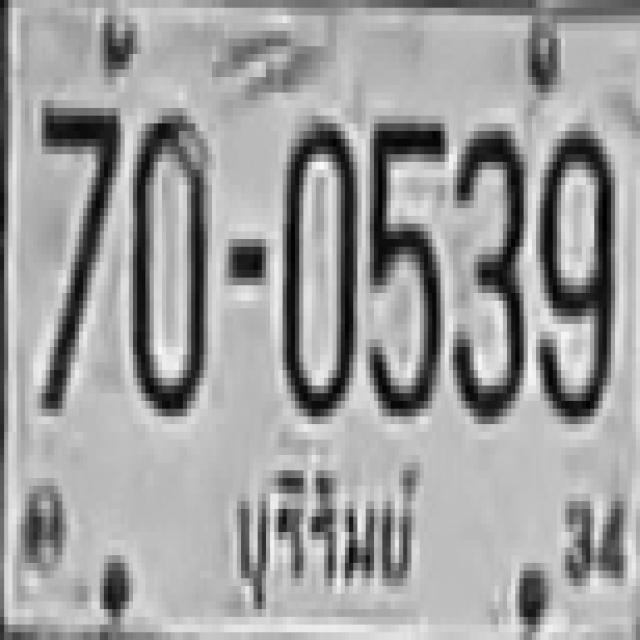0: (128, 100, 204, 409), (278, 115, 354, 408)
3: (449, 124, 519, 416)
5: (366, 108, 440, 409)
7: (38, 100, 116, 409)
9: (536, 116, 611, 416)
Buriram: (224, 450, 427, 625)
